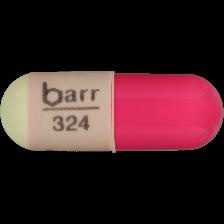43063-251: (0, 0, 224, 224)
